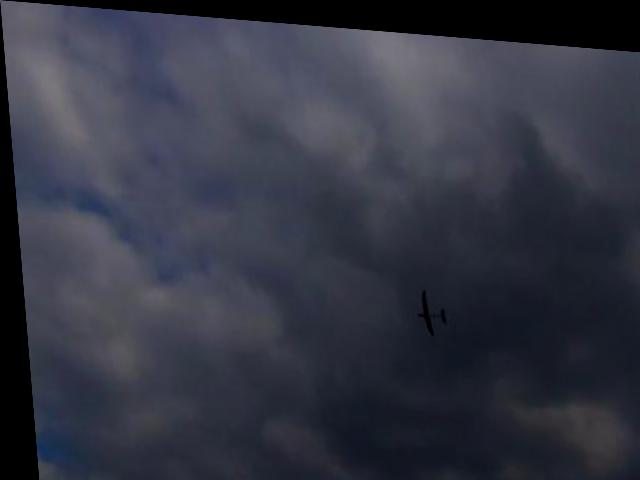uav: (407, 277, 445, 335)
